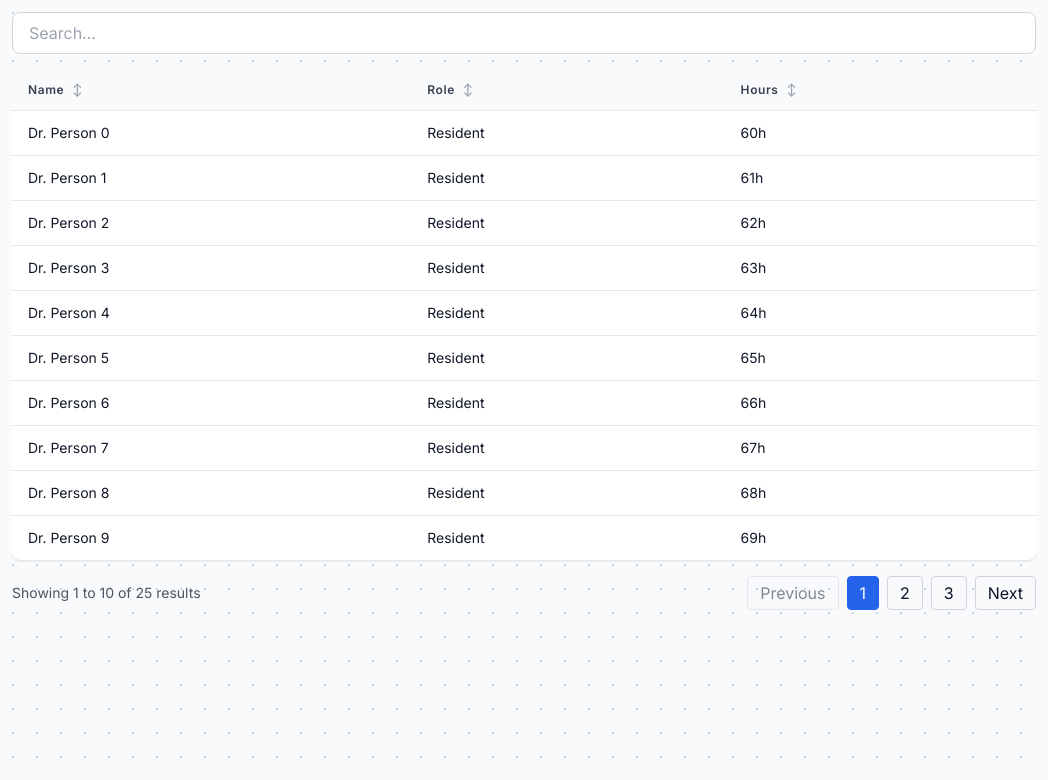
it: DataTable › changes pages when pagination buttons are clicked
Click next button
Click the button "Next" at (1005, 593), box left=975, top=576, right=1036, bottom=610
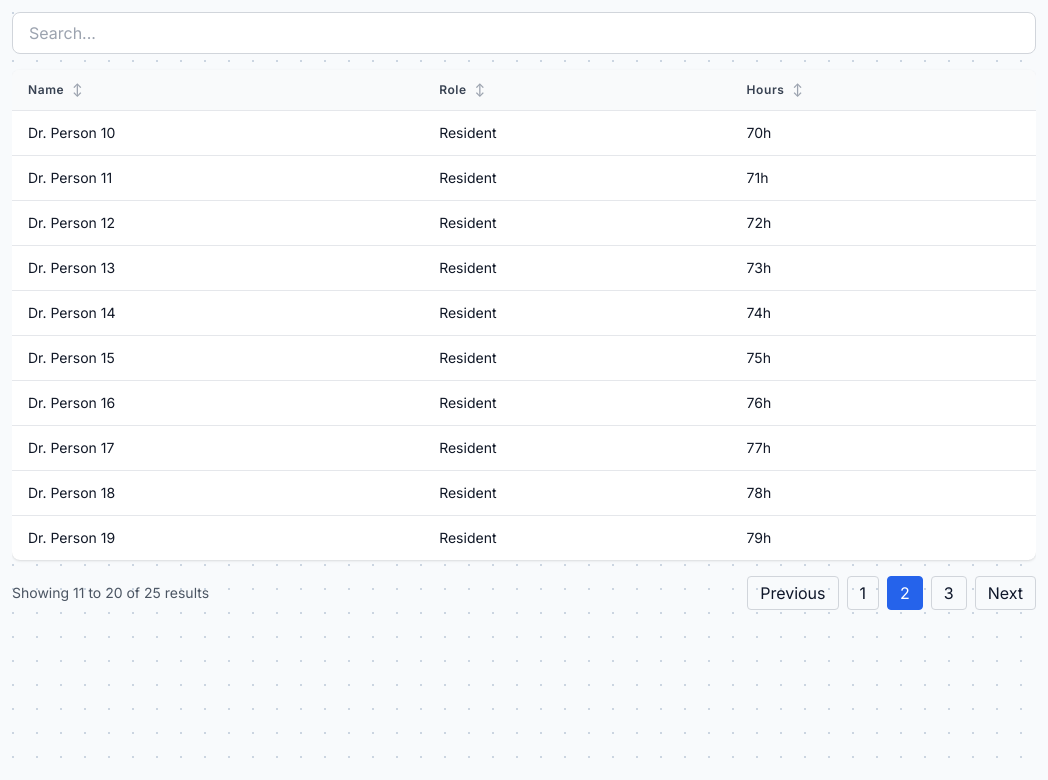
Result: the text "Dr. Person 0" is gone
Result: the text "Dr. Person 10" is shown at left=12, top=110, right=423, bottom=156
